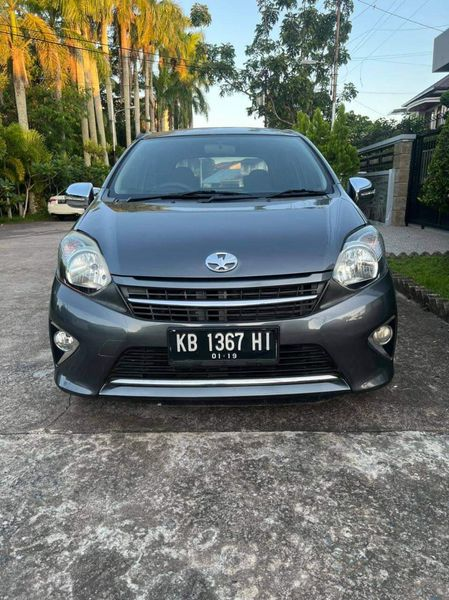plate: (164, 323, 281, 364)
